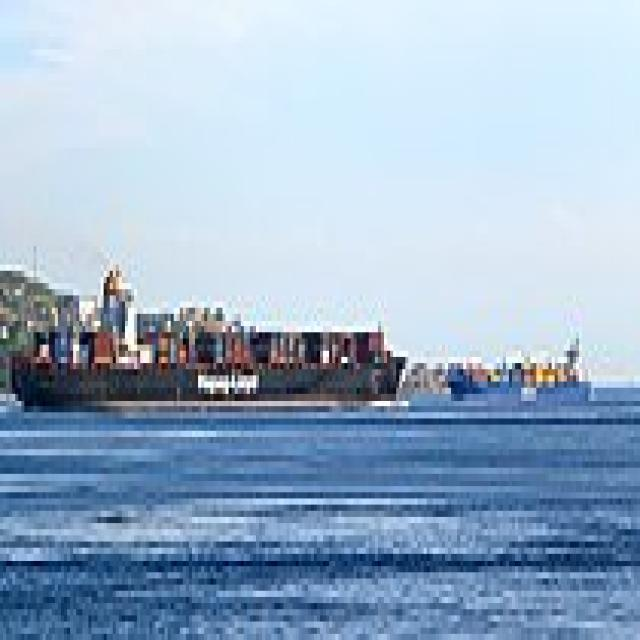Cargo: (3, 252, 408, 406)
